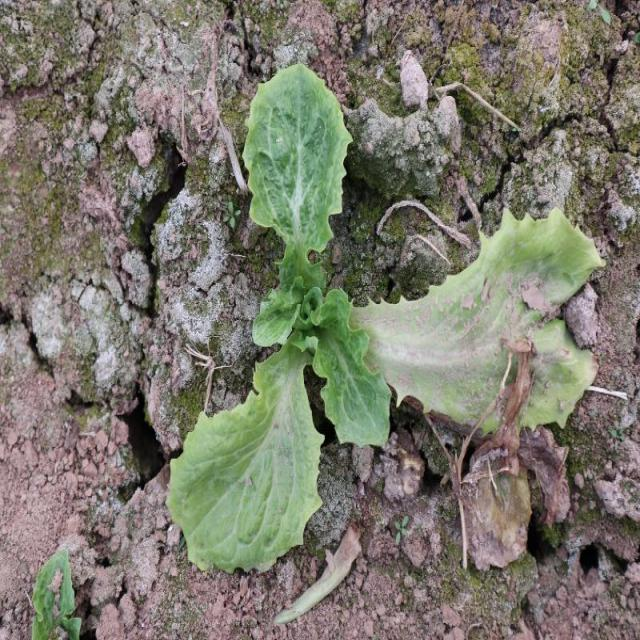crop: (169, 61, 391, 582)
